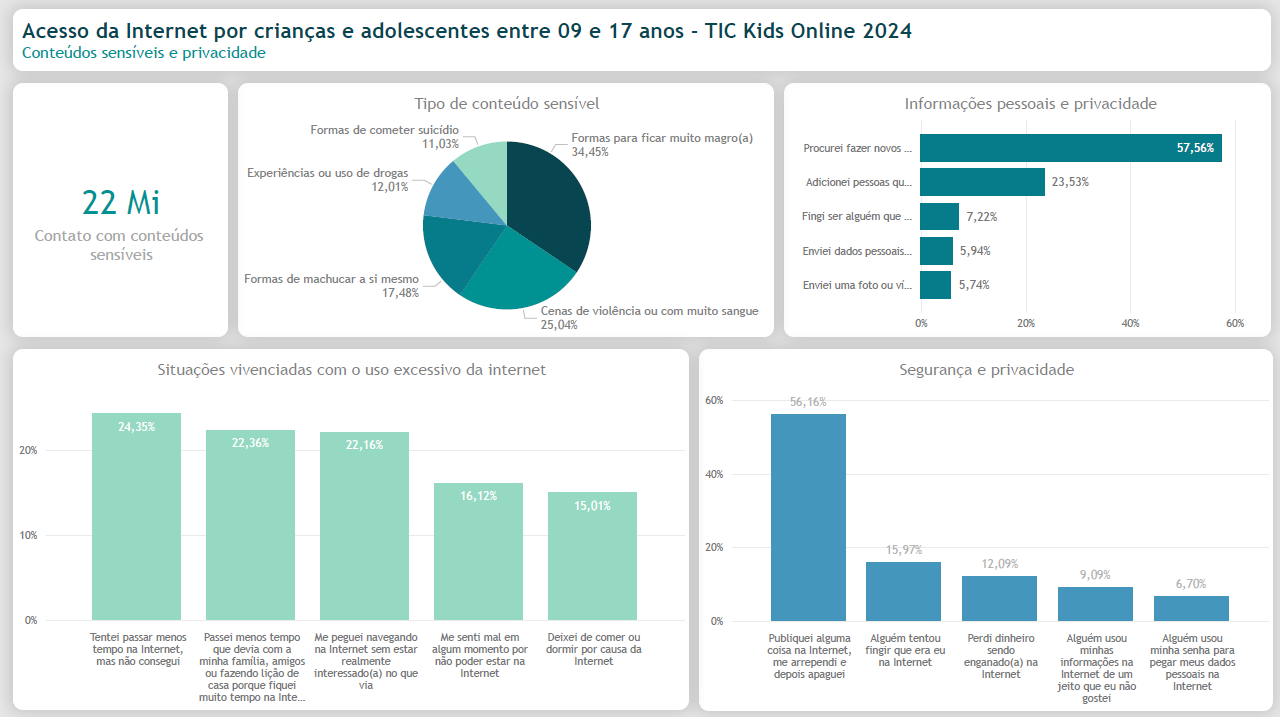

Layout of this report page (visuals, bound fields, positions):
{"tool":"powerbi","page":{"name":"Conteúdos sensíveis e privacidade","canvas":[1280,720],"ordinal":3},"visuals":[{"type":"clusteredBarChart","title":"Informações pessoais e privacidade","fields":{"Category":["6- Info pessoais e segurança.Resposta"],"Y":["Sum(6- Info pessoais e segurança.Valor)"]},"box":[784.2,84.8,487.1,254.3],"z":0},{"type":"clusteredColumnChart","title":"Segurança e privacidade","fields":{"Y":["Sum(6- Segurança e privacidade vive.Valor)"],"Category":["6- Segurança e privacidade vive.Resposta"]},"box":[699.2,350.8,573.3,361.7],"z":1000},{"type":"pieChart","title":"Tipo de conteúdo sensível","fields":{"Category":["8- contato com conteúdos sensiv.Resposta"],"Y":["Divide(Sum(8- contato com conteúdos sensiv.Valor), ScopedEval(Sum(8- contato com conteúdos sensiv.Valor), []))"]},"box":[238.5,84.8,535.7,254.3],"z":2000},{"type":"card","fields":{"Values":["Sum(8- contato com conteúdos sensiv.Valor)"]},"box":[12.7,84.8,215.7,254.3],"z":3000},{"type":"clusteredColumnChart","title":"Situações vivenciadas com o uso excessivo da internet","fields":{"Y":["Sum(8- Situações vivenciadas (uso e.Valor)"],"Category":["8- Situações vivenciadas (uso e.Resposta"]},"box":[12.5,350.8,676.7,360.8],"z":4000},{"type":"textbox","box":[12.5,11.2,1258.8,61.2],"z":5000}]}

Visuals, with their boxes in screenshot pixels (x1, y1, x2, y2), scaled from the page's 1280x720 canvas onto the 1281x717 screenshot:
"Informações pessoais e privacidade" clusteredBarChart: 785/84/1272/338
"Segurança e privacidade" clusteredColumnChart: 700/349/1273/710
"Tipo de conteúdo sensível" pieChart: 239/84/775/338
card - Sum(8- contato com conteúdos sensiv.Valor): 13/84/229/338
"Situações vivenciadas com o uso excessivo da internet" clusteredColumnChart: 13/349/690/709
textbox: 13/11/1272/72
